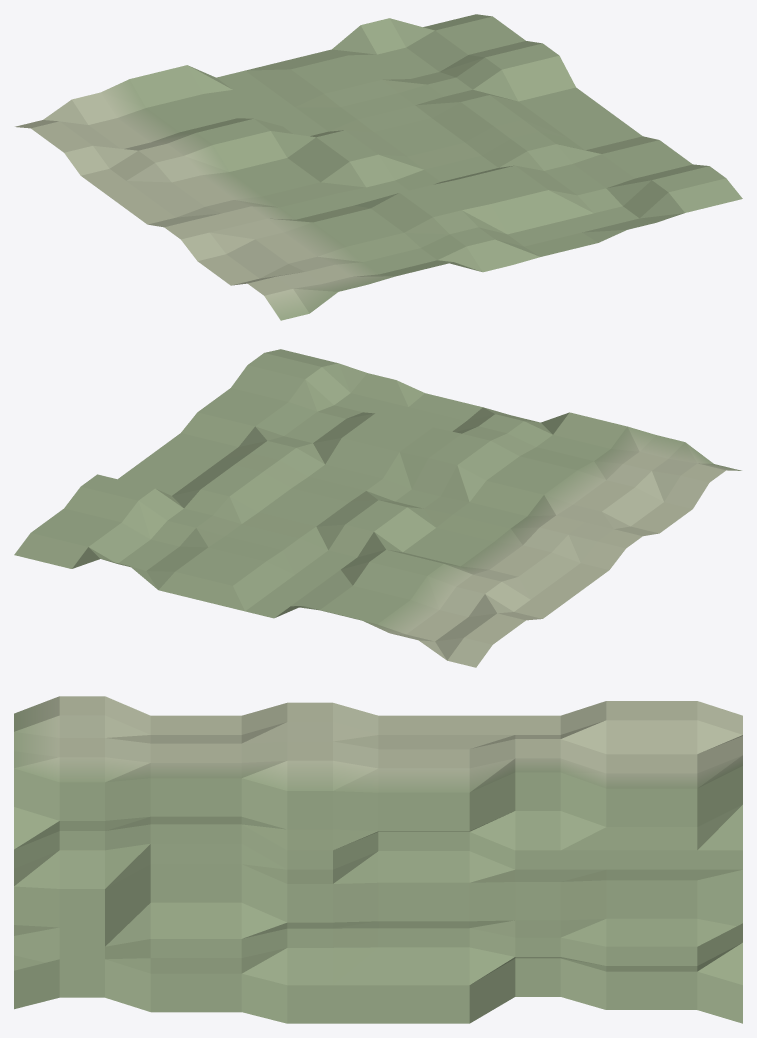
3 renders of one model, top to bottom at view 1: azimuth 30°, elevation 25°; view 2: azimuth 150°, elevation 25°; view 3: azimuth 270°, elevation 25°, orthographic. The views are drawn at different scales.
Bounding box in the file's own units: 32 × 1.3 × 32.
